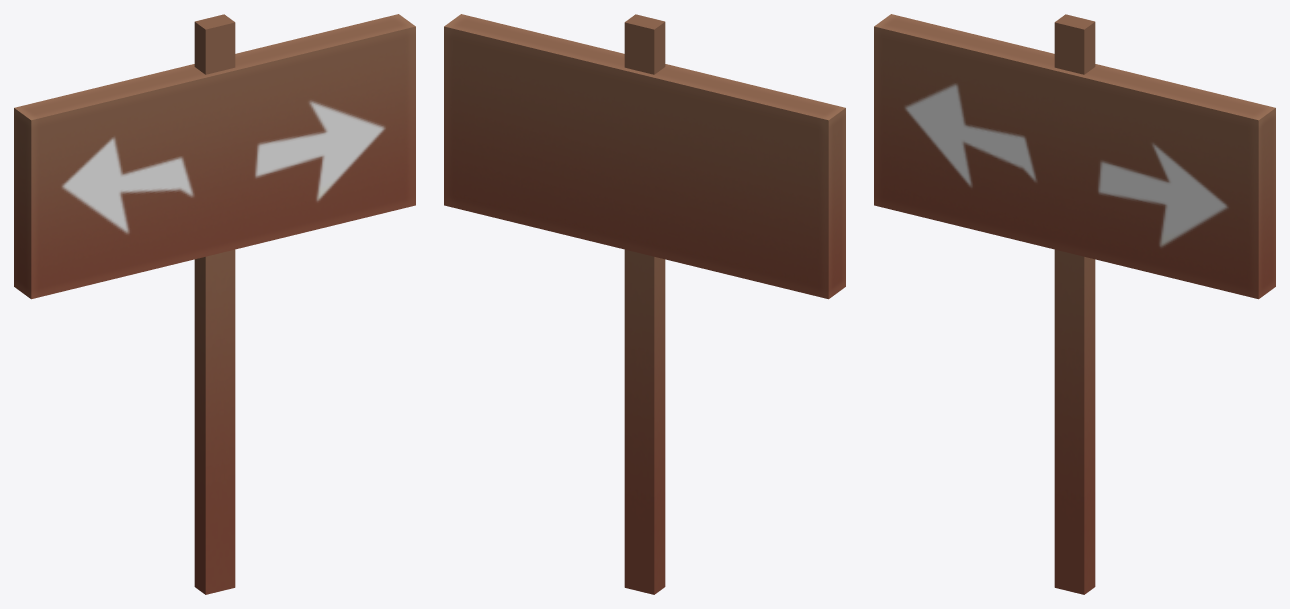
The model's file is Asset_Prop_Signpost.fbx.
3 views of the same model, side by side, from view 1: azimuth 30°, elevation 25°; view 2: azimuth 150°, elevation 25°; view 3: azimuth 330°, elevation 25° (orthographic).
Visible parts, largest first — view 1: Asset_Prop_SignPost; view 2: Asset_Prop_SignPost; view 3: Asset_Prop_SignPost.
Boxes of the visible parts, x1,y1,x2,y2 form: Asset_Prop_SignPost: (14,14,415,594); Asset_Prop_SignPost: (444,14,845,594); Asset_Prop_SignPost: (874,14,1275,594).
Size of the model in its own units: 30.29 by 42.54 by 2.33.
